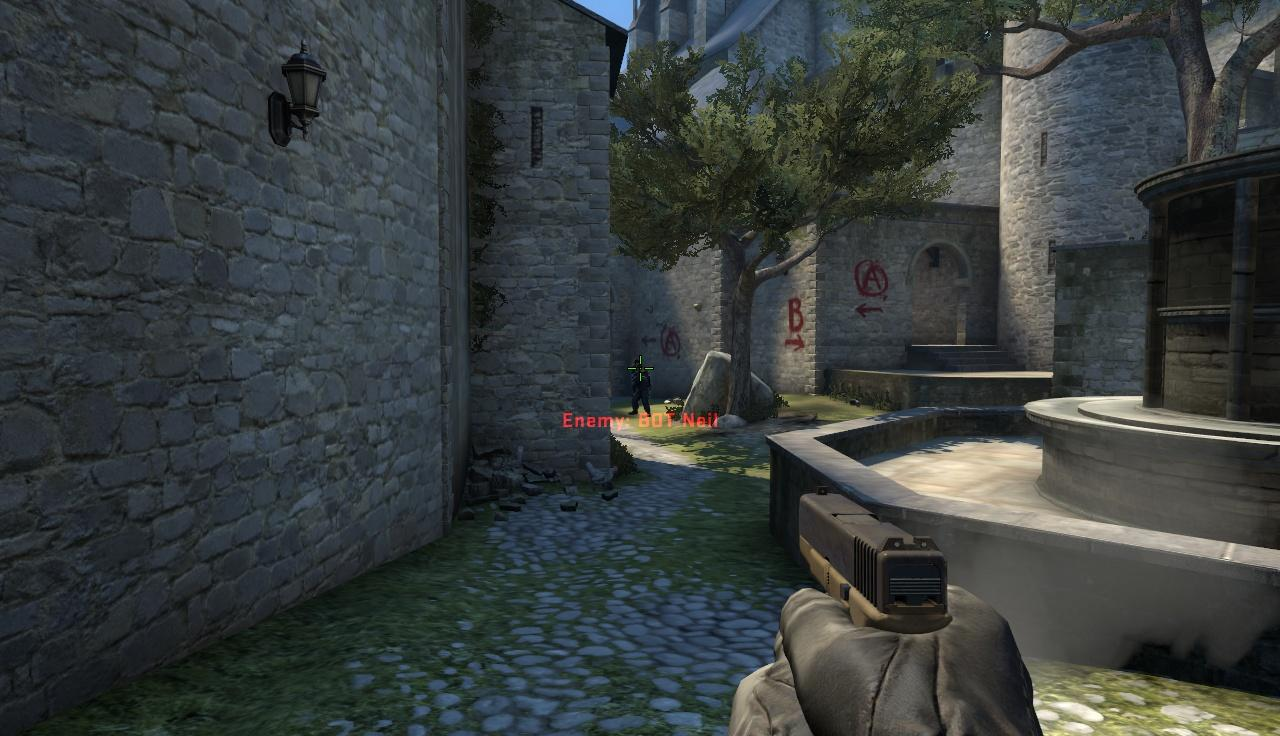ct: (630, 365, 651, 417)
cthead: (639, 366, 646, 374), (634, 359, 641, 367)
pistol: (781, 490, 1035, 736)
